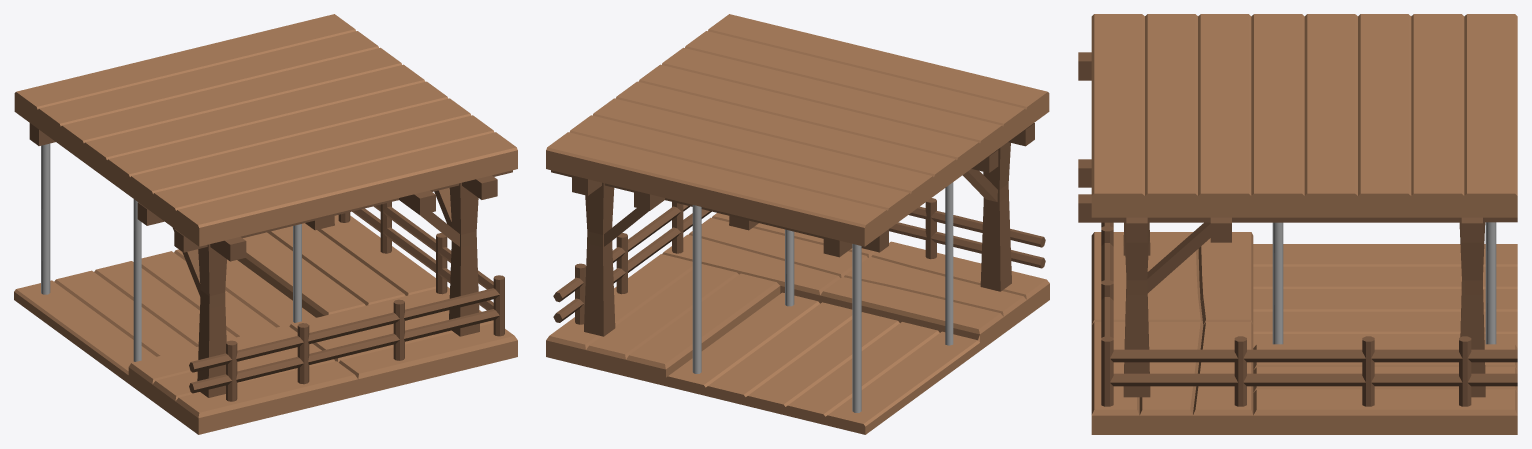
File: BasicElevator_Corner.fbx
The picture shows the model from 3 angles, left to right: view 1: azimuth 30°, elevation 25°; view 2: azimuth 150°, elevation 25°; view 3: azimuth 270°, elevation 25°; orthographic projection. The views are drawn at different scales.
Parts seen in each view (by area): view 1: BasicElevator_Corner; view 2: BasicElevator_Corner; view 3: BasicElevator_Corner.
Boxes of the visible parts, left/top/right/bottom form: BasicElevator_Corner: left=14, top=14, right=517, bottom=434; BasicElevator_Corner: left=546, top=14, right=1049, bottom=434; BasicElevator_Corner: left=1078, top=14, right=1517, bottom=434.
Size of the model in its own units: 825 by 500 by 825.
